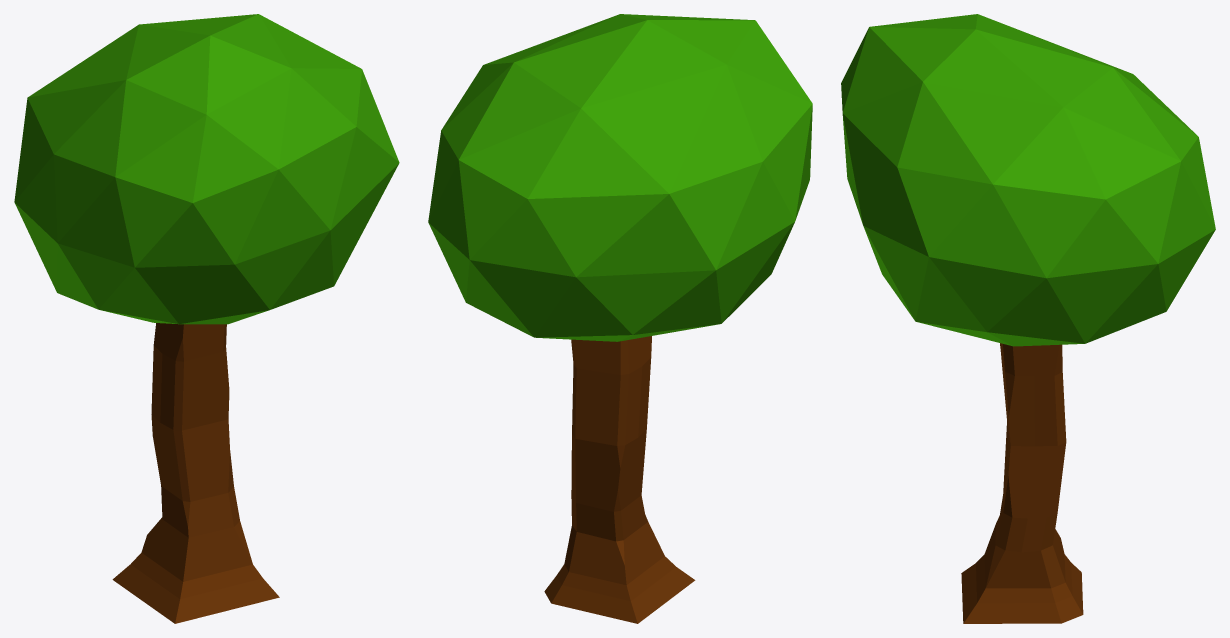
Rendered from drzwko.fbx.
The picture shows the model from 3 angles, left to right: view 1: azimuth 30°, elevation 25°; view 2: azimuth 150°, elevation 25°; view 3: azimuth 270°, elevation 25°; orthographic projection. The views are drawn at different scales.
Visible parts, largest first — view 1: drzewo; view 2: drzewo; view 3: drzewo.
Boxes of the visible parts, <box> form: drzewo: <box>14,14,399,623</box>; drzewo: <box>428,14,812,623</box>; drzewo: <box>841,14,1215,623</box>.
Size of the model in its own units: 1384 by 2342 by 1410.
